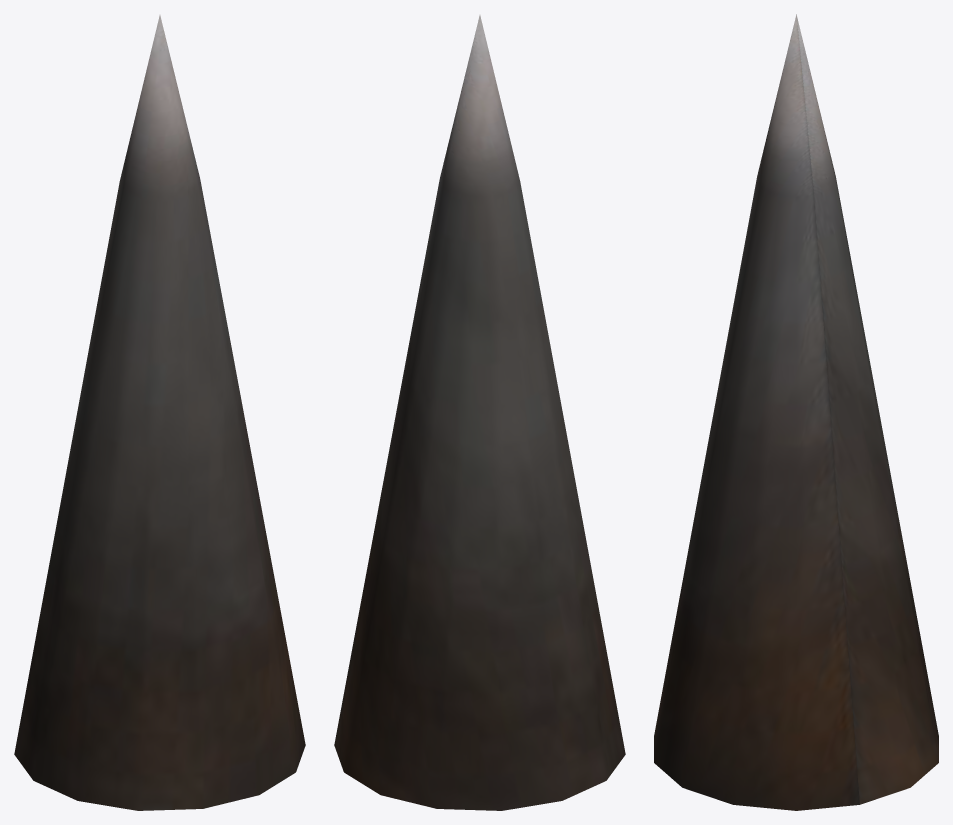
The model's file is spike.fbx.
The picture shows the model from 3 angles, left to right: view 1: azimuth 30°, elevation 25°; view 2: azimuth 150°, elevation 25°; view 3: azimuth 270°, elevation 25°; orthographic projection.
Visible parts, largest first — view 1: spike; view 2: spike; view 3: spike.
Part boxes in pixels (<box>): spike: <box>14,15,305,810</box>; spike: <box>334,15,625,810</box>; spike: <box>654,14,938,810</box>.
Bounding box in the file's own units: 13.04 × 36.23 × 12.72.
Materials: 1 (1 with a texture image).
